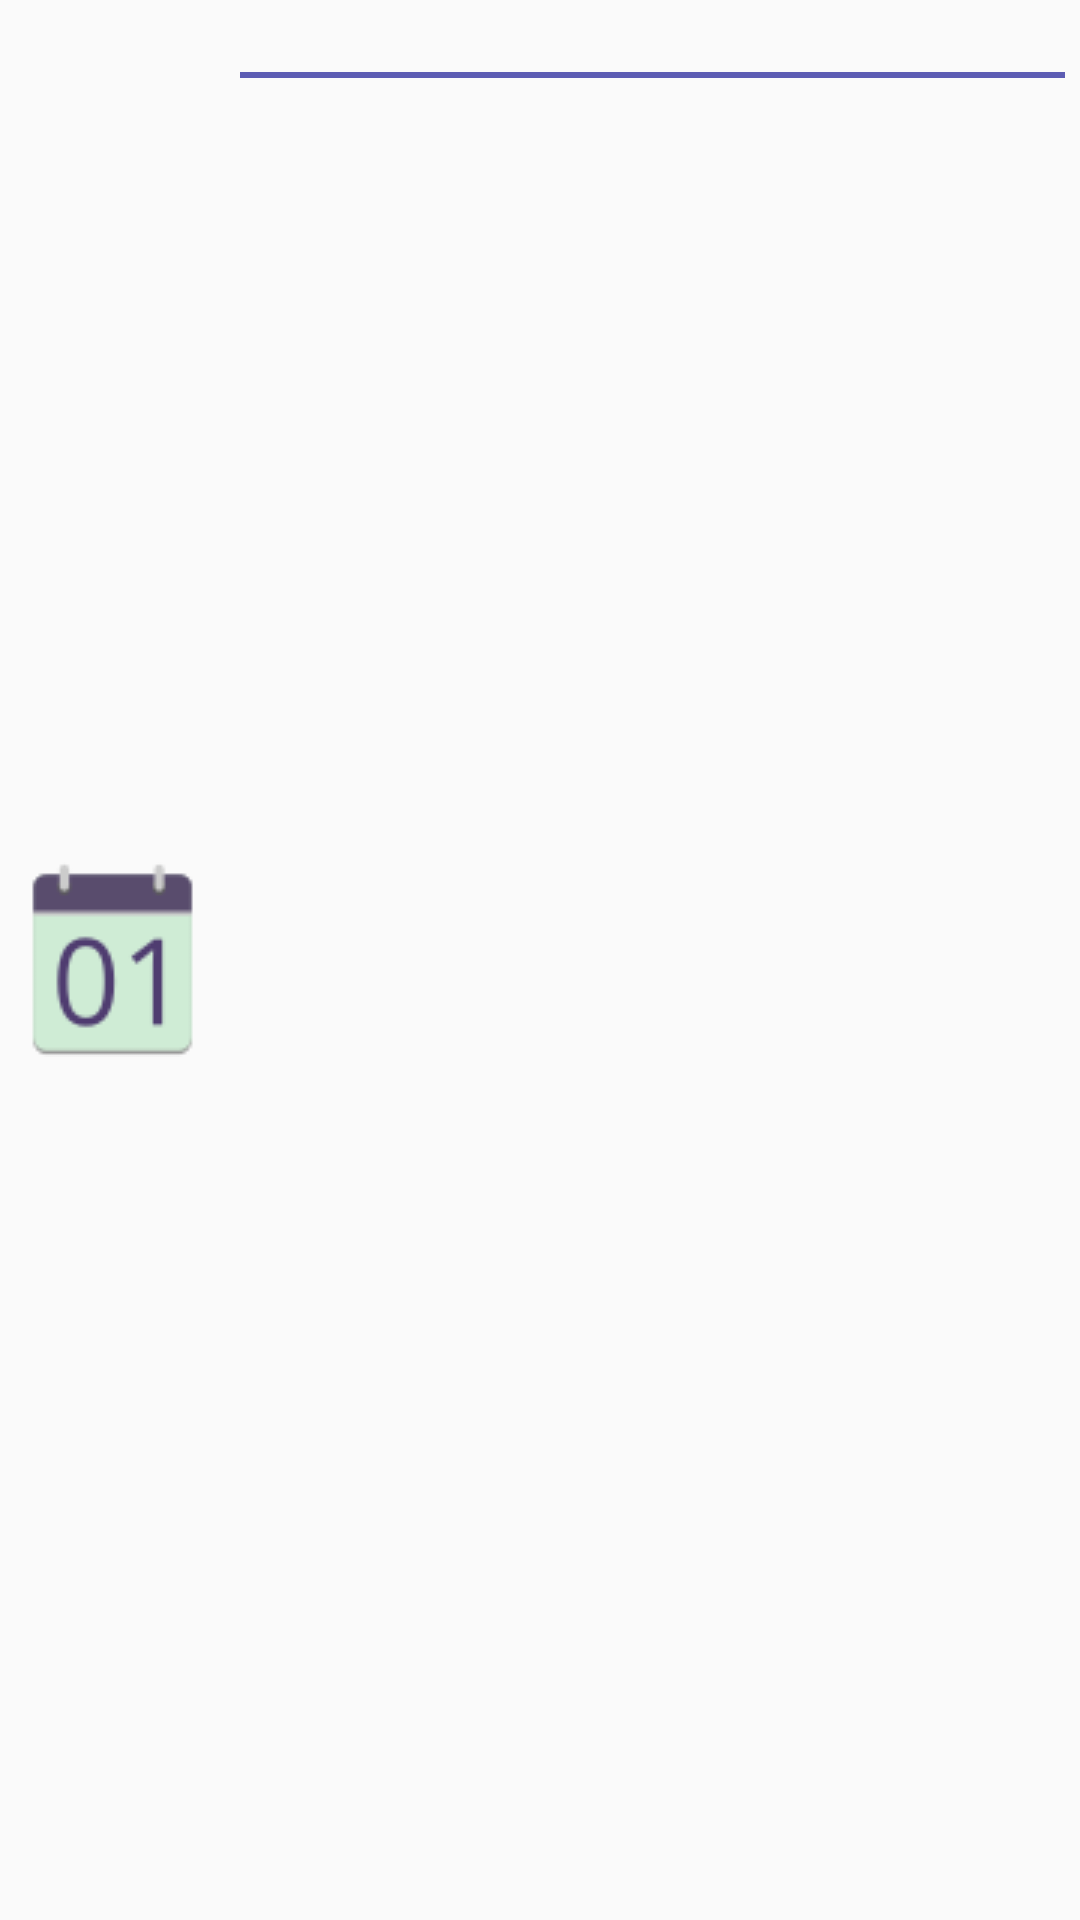

Where icons sit on this 1080px×1920px app screen, as (x1, y1, x2, y2):
cal: (32, 865, 193, 1055)
